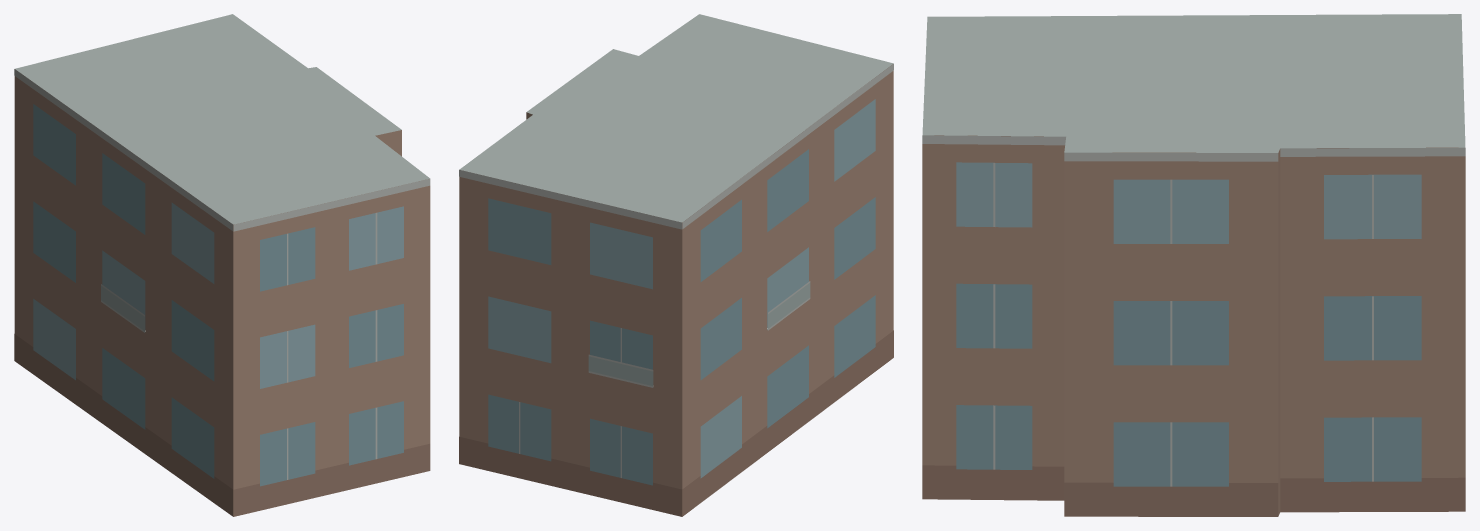
The model's file is survey-upis-32928304.glb.
3 views of the same model, side by side, from view 1: azimuth 30°, elevation 25°; view 2: azimuth 150°, elevation 25°; view 3: azimuth 270°, elevation 25° (orthographic). The views are drawn at different scales.
Parts seen in each view (by area): view 1: survey-upis-32928304.tmp; view 2: survey-upis-32928304.tmp; view 3: survey-upis-32928304.tmp.
Boxes of the visible parts, box(x1,y1,x2,y2) form: survey-upis-32928304.tmp: box(14, 14, 430, 516); survey-upis-32928304.tmp: box(459, 14, 893, 516); survey-upis-32928304.tmp: box(922, 14, 1465, 516).
Bounding box in the file's own units: 8.36 × 10.2 × 13.8.
